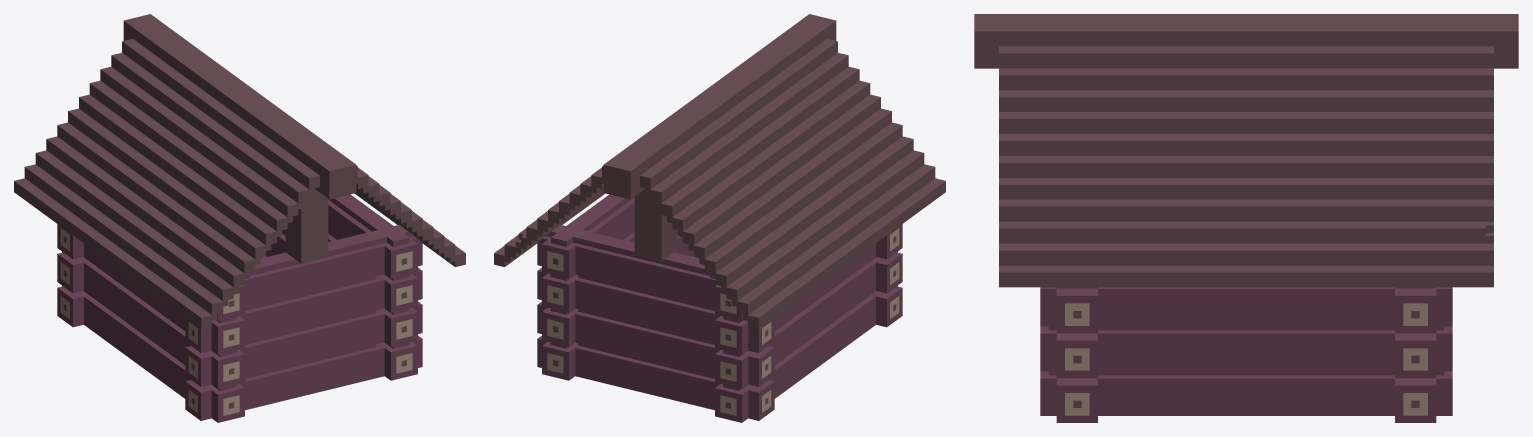
File: LumberHut.glb
3 views of the same model, side by side, from view 1: azimuth 30°, elevation 25°; view 2: azimuth 150°, elevation 25°; view 3: azimuth 270°, elevation 25° (orthographic). The views are drawn at different scales.
Visible parts, largest first — view 1: Node; view 2: Node; view 3: Node.
Part boxes in pixels (bbox=[...]): Node: bbox=[14, 14, 465, 422]; Node: bbox=[494, 14, 945, 422]; Node: bbox=[974, 14, 1518, 422].
Size of the model in its own units: 4.9 by 4.4 by 6.6.
1 material, 1 textured.
